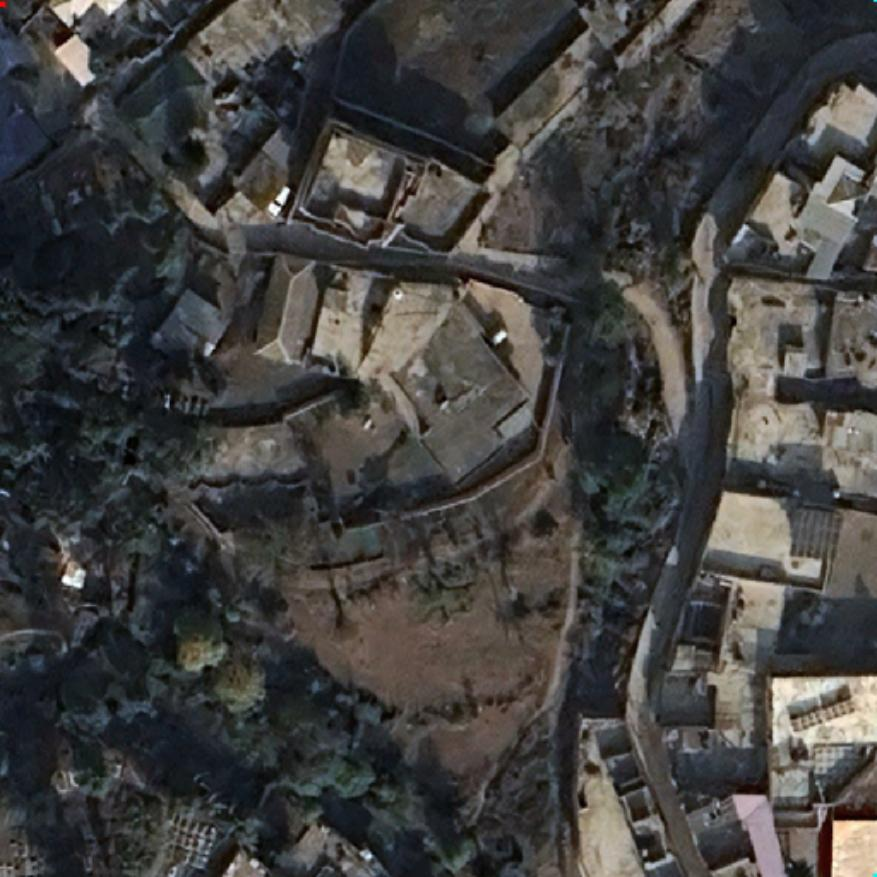Solarpanel: (786, 690, 864, 738), (790, 505, 842, 561)
